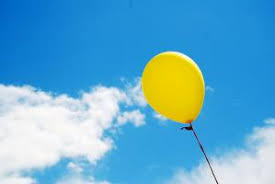Balloon: (142, 51, 205, 123)
